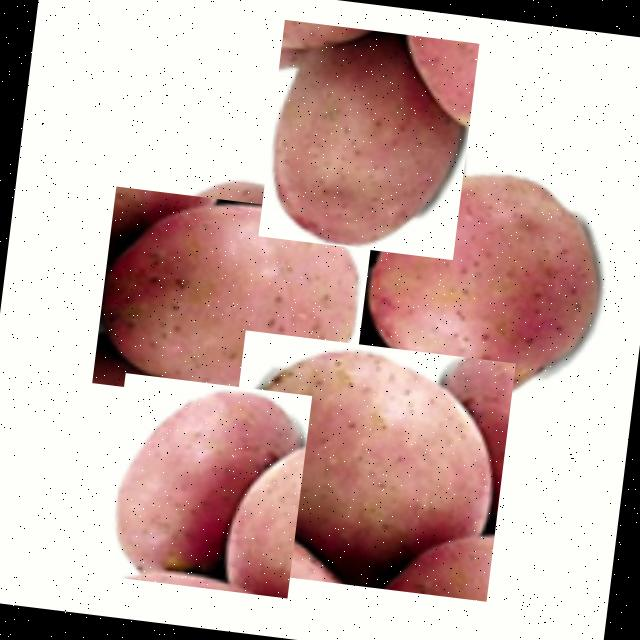Defected potato: (215, 330, 514, 601), (350, 156, 615, 417), (91, 186, 373, 414), (257, 19, 478, 260), (100, 372, 310, 598)
